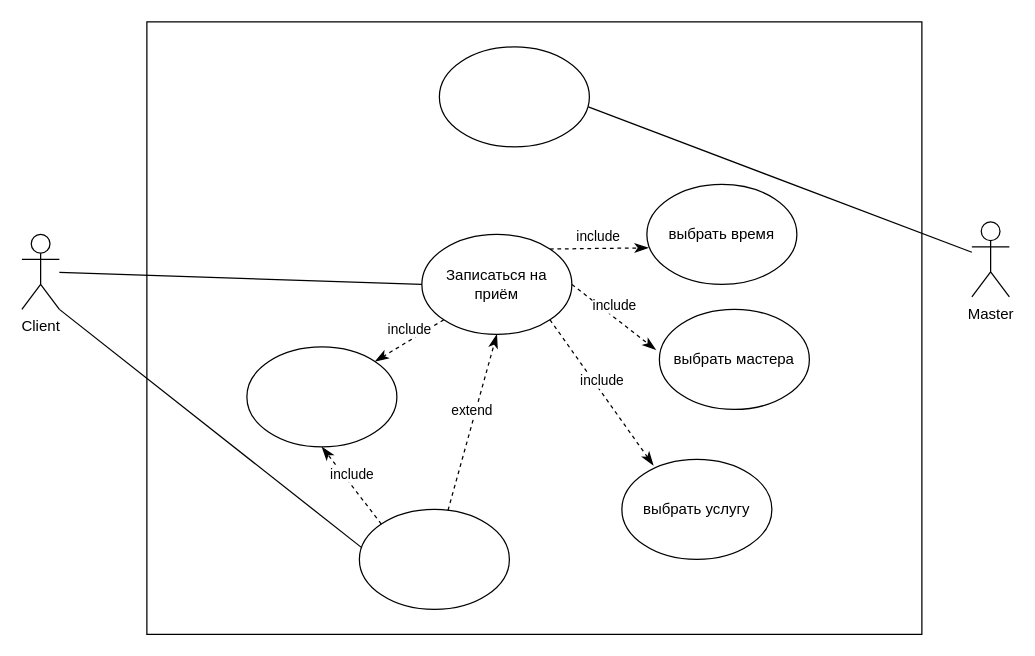
Image size: 1035x656. Some labels were removed from this diagram. The centre of each missing label's shape, as x and y in pixels:
авторизация: point 321,396
отменить свою запись: point 433,558
посмотреть расписание мастеров: point 513,96
